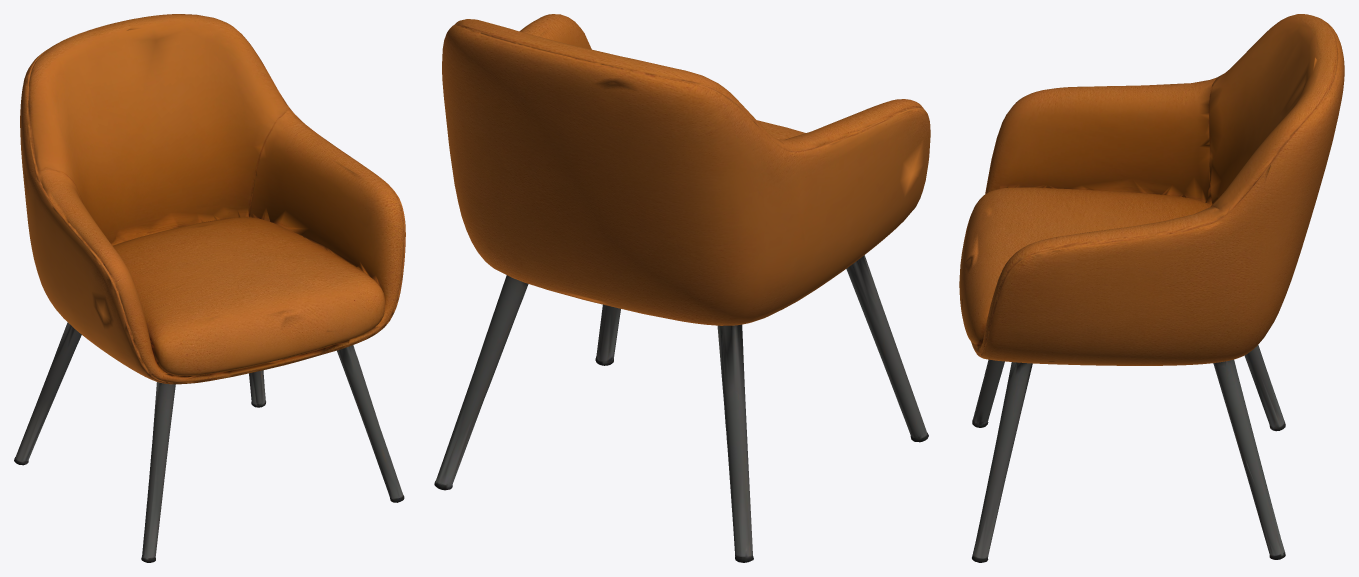
Rendered from orange-chair.glb.
3 renders of one model, left to right at view 1: azimuth 30°, elevation 25°; view 2: azimuth 150°, elevation 25°; view 3: azimuth 270°, elevation 25°, orthographic. The views are drawn at different scales.
Visible parts, largest first — view 1: node_0; view 2: node_0; view 3: node_0.
Part boxes in pixels (x1=…): node_0: x1=14, y1=14, x2=405, y2=562; node_0: x1=434, y1=14, x2=930, y2=562; node_0: x1=959, y1=14, x2=1344, y2=562.
Size of the model in its own units: 0.6766 by 0.8557 by 0.6769.
1 material, 1 textured.
